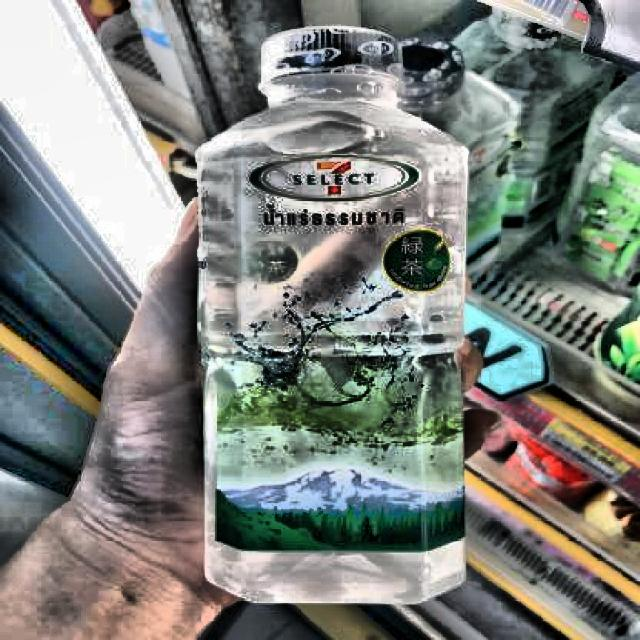Bottles: (184, 18, 491, 612)
